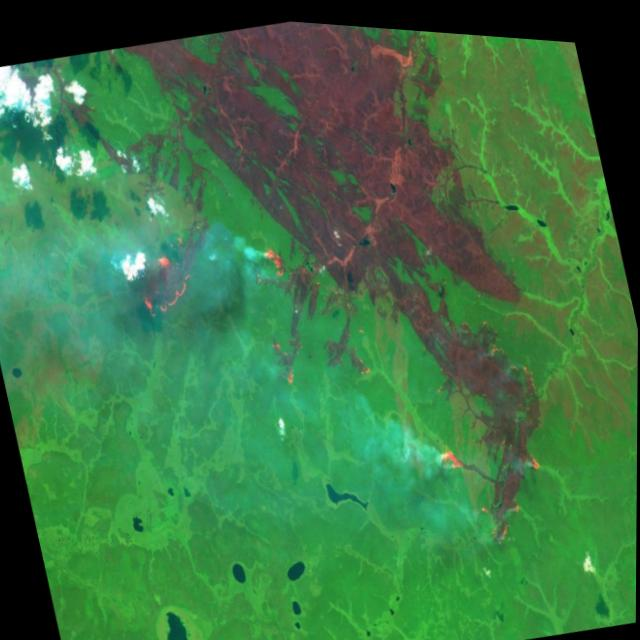fire: (125, 221, 201, 321), (260, 319, 305, 390), (427, 418, 472, 478), (252, 225, 295, 282), (517, 434, 554, 481)
